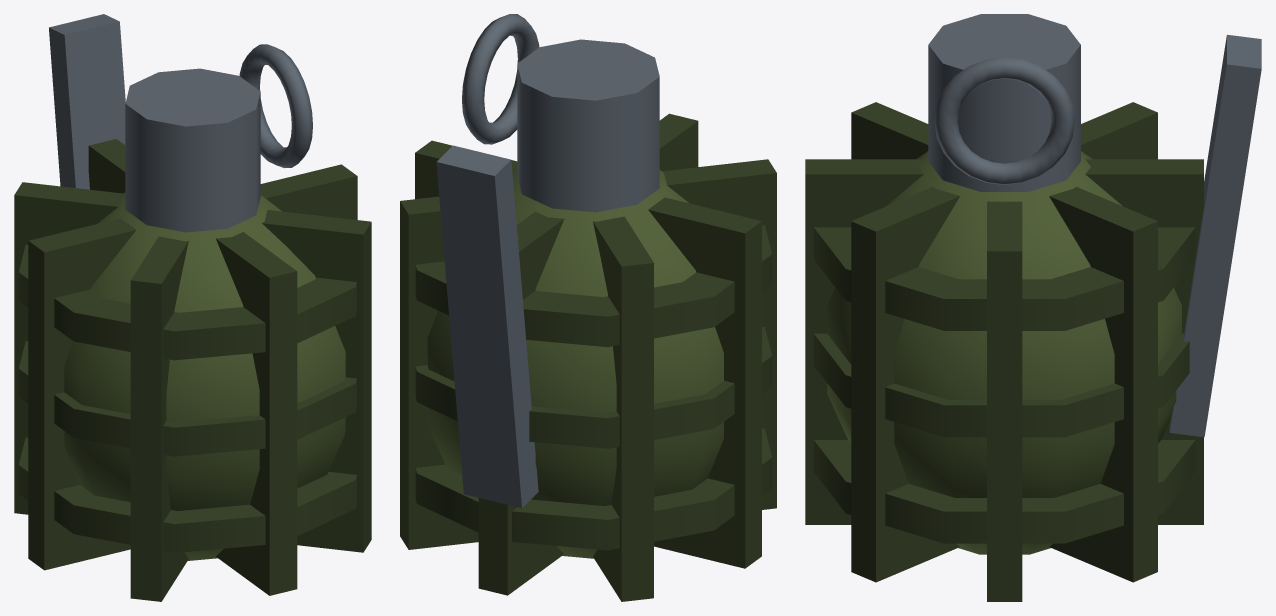
Rendered from frag.glb.
3 renders of one model, left to right at view 1: azimuth 30°, elevation 25°; view 2: azimuth 150°, elevation 25°; view 3: azimuth 270°, elevation 25°, orthographic. The views are drawn at different scales.
Visible parts, largest first — view 1: _MeshInstance3D_4469, _MeshInstance3D_4477, _MeshInstance3D_4475, _MeshInstance3D_4474, _MeshInstance3D_4473, _MeshInstance3D_4476, _MeshInstance3D_4472, _MeshInstance3D_4470, _MeshInstance3D_4478, _MeshInstance3D_4471, _MeshInstance3D_4479; view 2: _MeshInstance3D_4469, _MeshInstance3D_4478, _MeshInstance3D_4477, _MeshInstance3D_4475, _MeshInstance3D_4476, _MeshInstance3D_4474, _MeshInstance3D_4470, _MeshInstance3D_4472, _MeshInstance3D_4473, _MeshInstance3D_4471, _MeshInstance3D_4479; view 3: _MeshInstance3D_4469, _MeshInstance3D_4474, _MeshInstance3D_4476, _MeshInstance3D_4473, _MeshInstance3D_4477, _MeshInstance3D_4478, _MeshInstance3D_4472, _MeshInstance3D_4475, _MeshInstance3D_4470, _MeshInstance3D_4471, _MeshInstance3D_4479.
Part boxes in pixels (x1,y1,x2,y2): _MeshInstance3D_4469: (64,192,345,560); _MeshInstance3D_4477: (125,68,260,232); _MeshInstance3D_4475: (28,164,357,570); _MeshInstance3D_4474: (14,182,371,552); _MeshInstance3D_4473: (88,139,297,595); _MeshInstance3D_4476: (130,236,188,601); _MeshInstance3D_4472: (18,244,356,360); _MeshInstance3D_4470: (18,437,356,552); _MeshInstance3D_4478: (49,14,125,189); _MeshInstance3D_4471: (18,341,356,456); _MeshInstance3D_4479: (239,44,312,168); _MeshInstance3D_4469: (427,170,723,558); _MeshInstance3D_4478: (436,145,538,508); _MeshInstance3D_4477: (517,39,659,212); _MeshInstance3D_4475: (415,140,761,568); _MeshInstance3D_4476: (400,159,776,549); _MeshInstance3D_4474: (593,216,653,601); _MeshInstance3D_4470: (415,428,772,550); _MeshInstance3D_4472: (415,225,772,346); _MeshInstance3D_4473: (478,113,698,595); _MeshInstance3D_4471: (415,327,772,448); _MeshInstance3D_4479: (462,14,539,144); _MeshInstance3D_4469: (827,151,1181,554); _MeshInstance3D_4474: (851,102,1157,582); _MeshInstance3D_4476: (851,102,1157,582); _MeshInstance3D_4473: (805,159,1203,524); _MeshInstance3D_4477: (928,14,1080,191); _MeshInstance3D_4478: (1169,34,1261,437); _MeshInstance3D_4472: (814,227,1195,330); _MeshInstance3D_4475: (987,201,1022,601); _MeshInstance3D_4470: (814,440,1195,543); _MeshInstance3D_4471: (814,333,1189,437); _MeshInstance3D_4479: (934,57,1074,184).
Bounding box in the file's own units: 0.1088 × 0.1592 × 0.1245.
